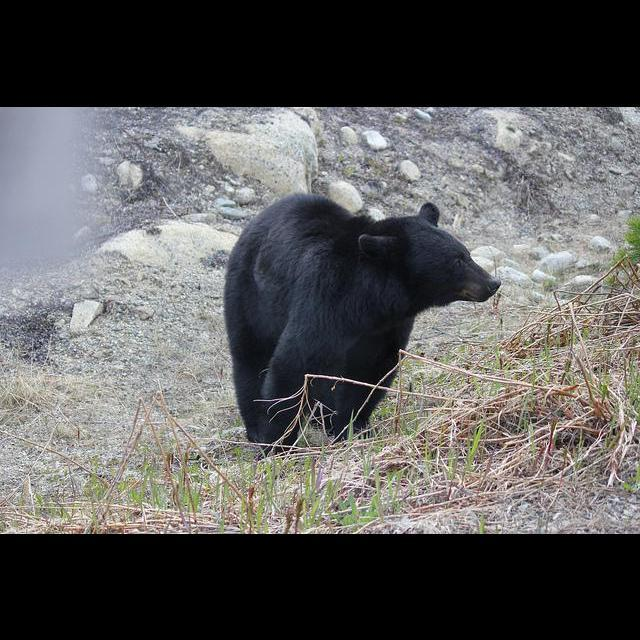bear: (228, 194, 500, 452)
